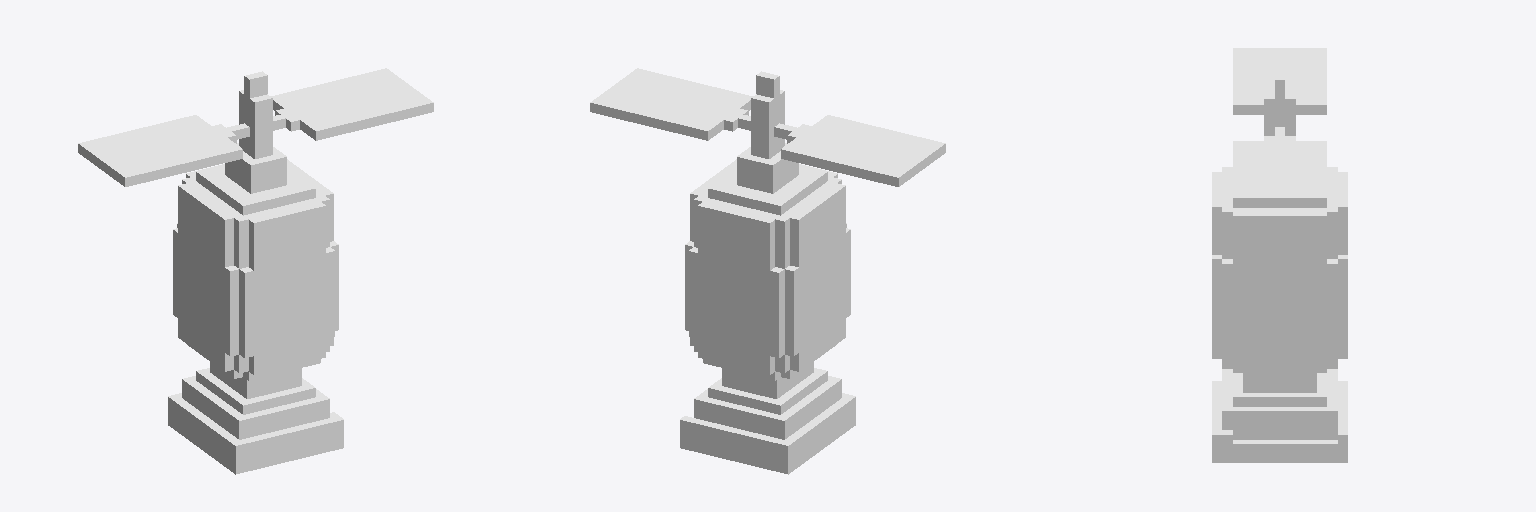
The model's file is Satellite.obj.
3 renders of one model, left to right at view 1: azimuth 30°, elevation 25°; view 2: azimuth 150°, elevation 25°; view 3: azimuth 270°, elevation 25°, orthographic.
Visible parts, largest first — view 1: Satellite; view 2: Satellite; view 3: Satellite.
Boxes of the visible parts, <box> form: Satellite: <box>78,68,433,474</box>; Satellite: <box>590,68,945,474</box>; Satellite: <box>1212,48,1347,462</box>.
Size of the model in its own units: 34 by 38 by 13.